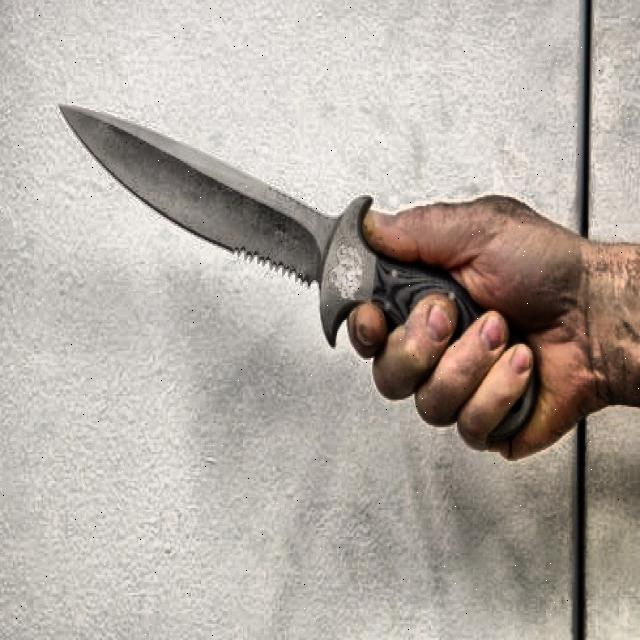knife: (61, 106, 537, 439)
